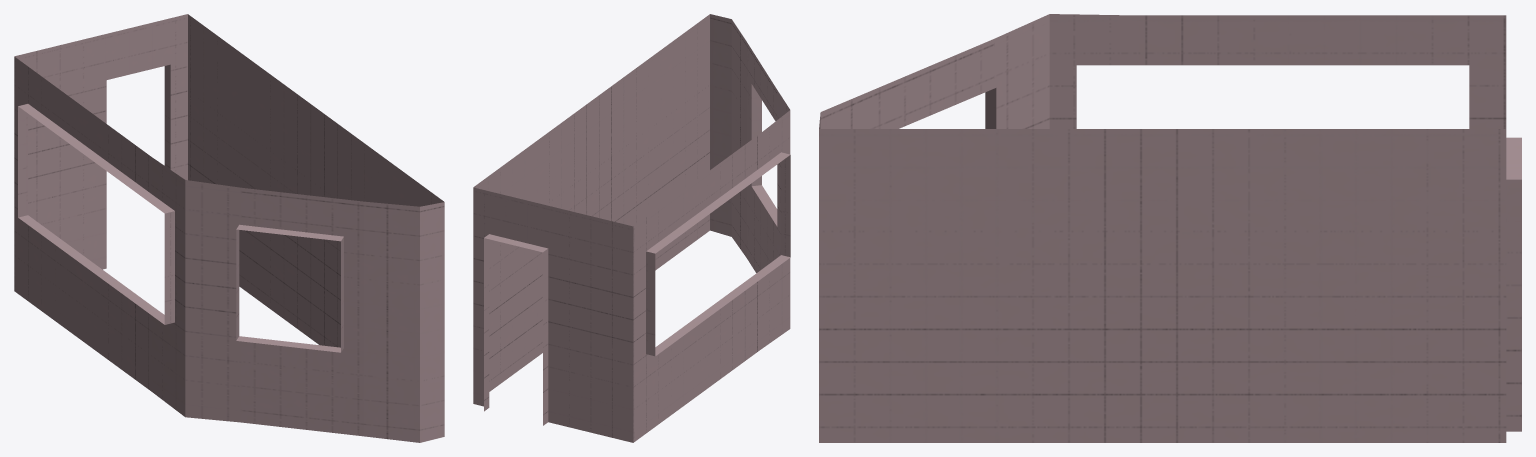
Rendered from bathroom_0_0.wall.glb.
3 renders of one model, left to right at view 1: azimuth 30°, elevation 25°; view 2: azimuth 150°, elevation 25°; view 3: azimuth 270°, elevation 25°, orthographic. The views are drawn at different scales.
Parts seen in each view (by area): view 1: bathroom_0/0.wall.001; view 2: bathroom_0/0.wall.001; view 3: bathroom_0/0.wall.001.
Boxes of the visible parts, box(x1,y1,x2,y2) form: bathroom_0/0.wall.001: box(14, 14, 444, 442); bathroom_0/0.wall.001: box(473, 14, 790, 442); bathroom_0/0.wall.001: box(819, 14, 1521, 442).
Bounding box in the file's own units: 2.37 × 2.93 × 5.87.
1 material, 1 textured.
